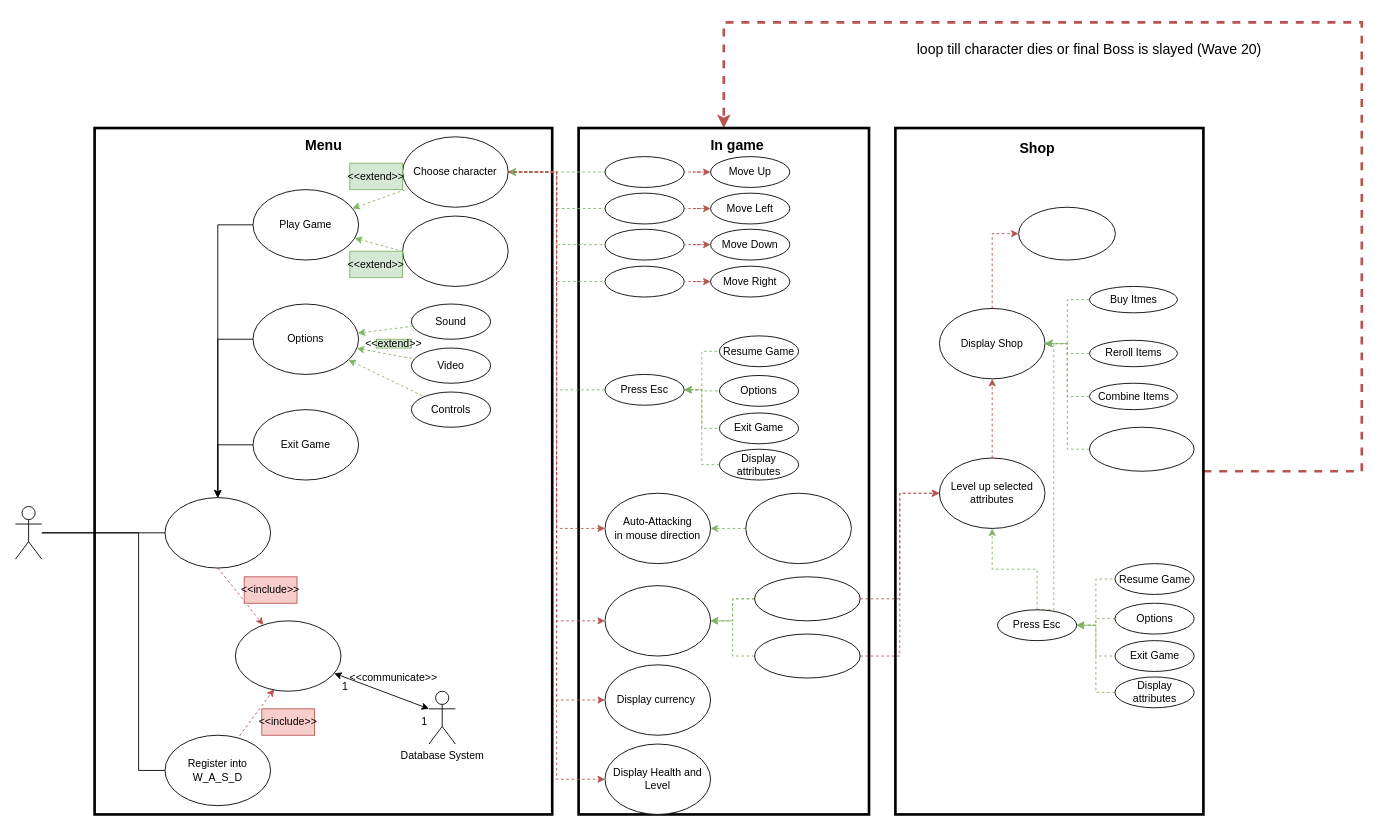
Some shapes in this 1385 by 831 pixel diagram are drawn without their labels. The shapes that lost their labels are listed below. From the top down, each one's box as (x1, y1, x2, y2) in pixels, then its label:
(604, 156, 684, 187): Press W
(604, 192, 684, 224): Press A
(402, 215, 508, 286): Go back
(604, 228, 684, 260): Press S
(1018, 206, 1115, 260): Display shop timer
(604, 265, 684, 297): Press D
(1089, 426, 1194, 471): Recycle Items into currnecy
(15, 506, 42, 559): User
(164, 497, 271, 568): Login into W_A_S_D
(745, 492, 851, 564): Damage enemies
(754, 576, 860, 621): All enemies vanished
(604, 585, 711, 656): Display timer and current enemy wave
(235, 620, 341, 691): Compare data with database
(754, 633, 860, 678): timer gets to 0
